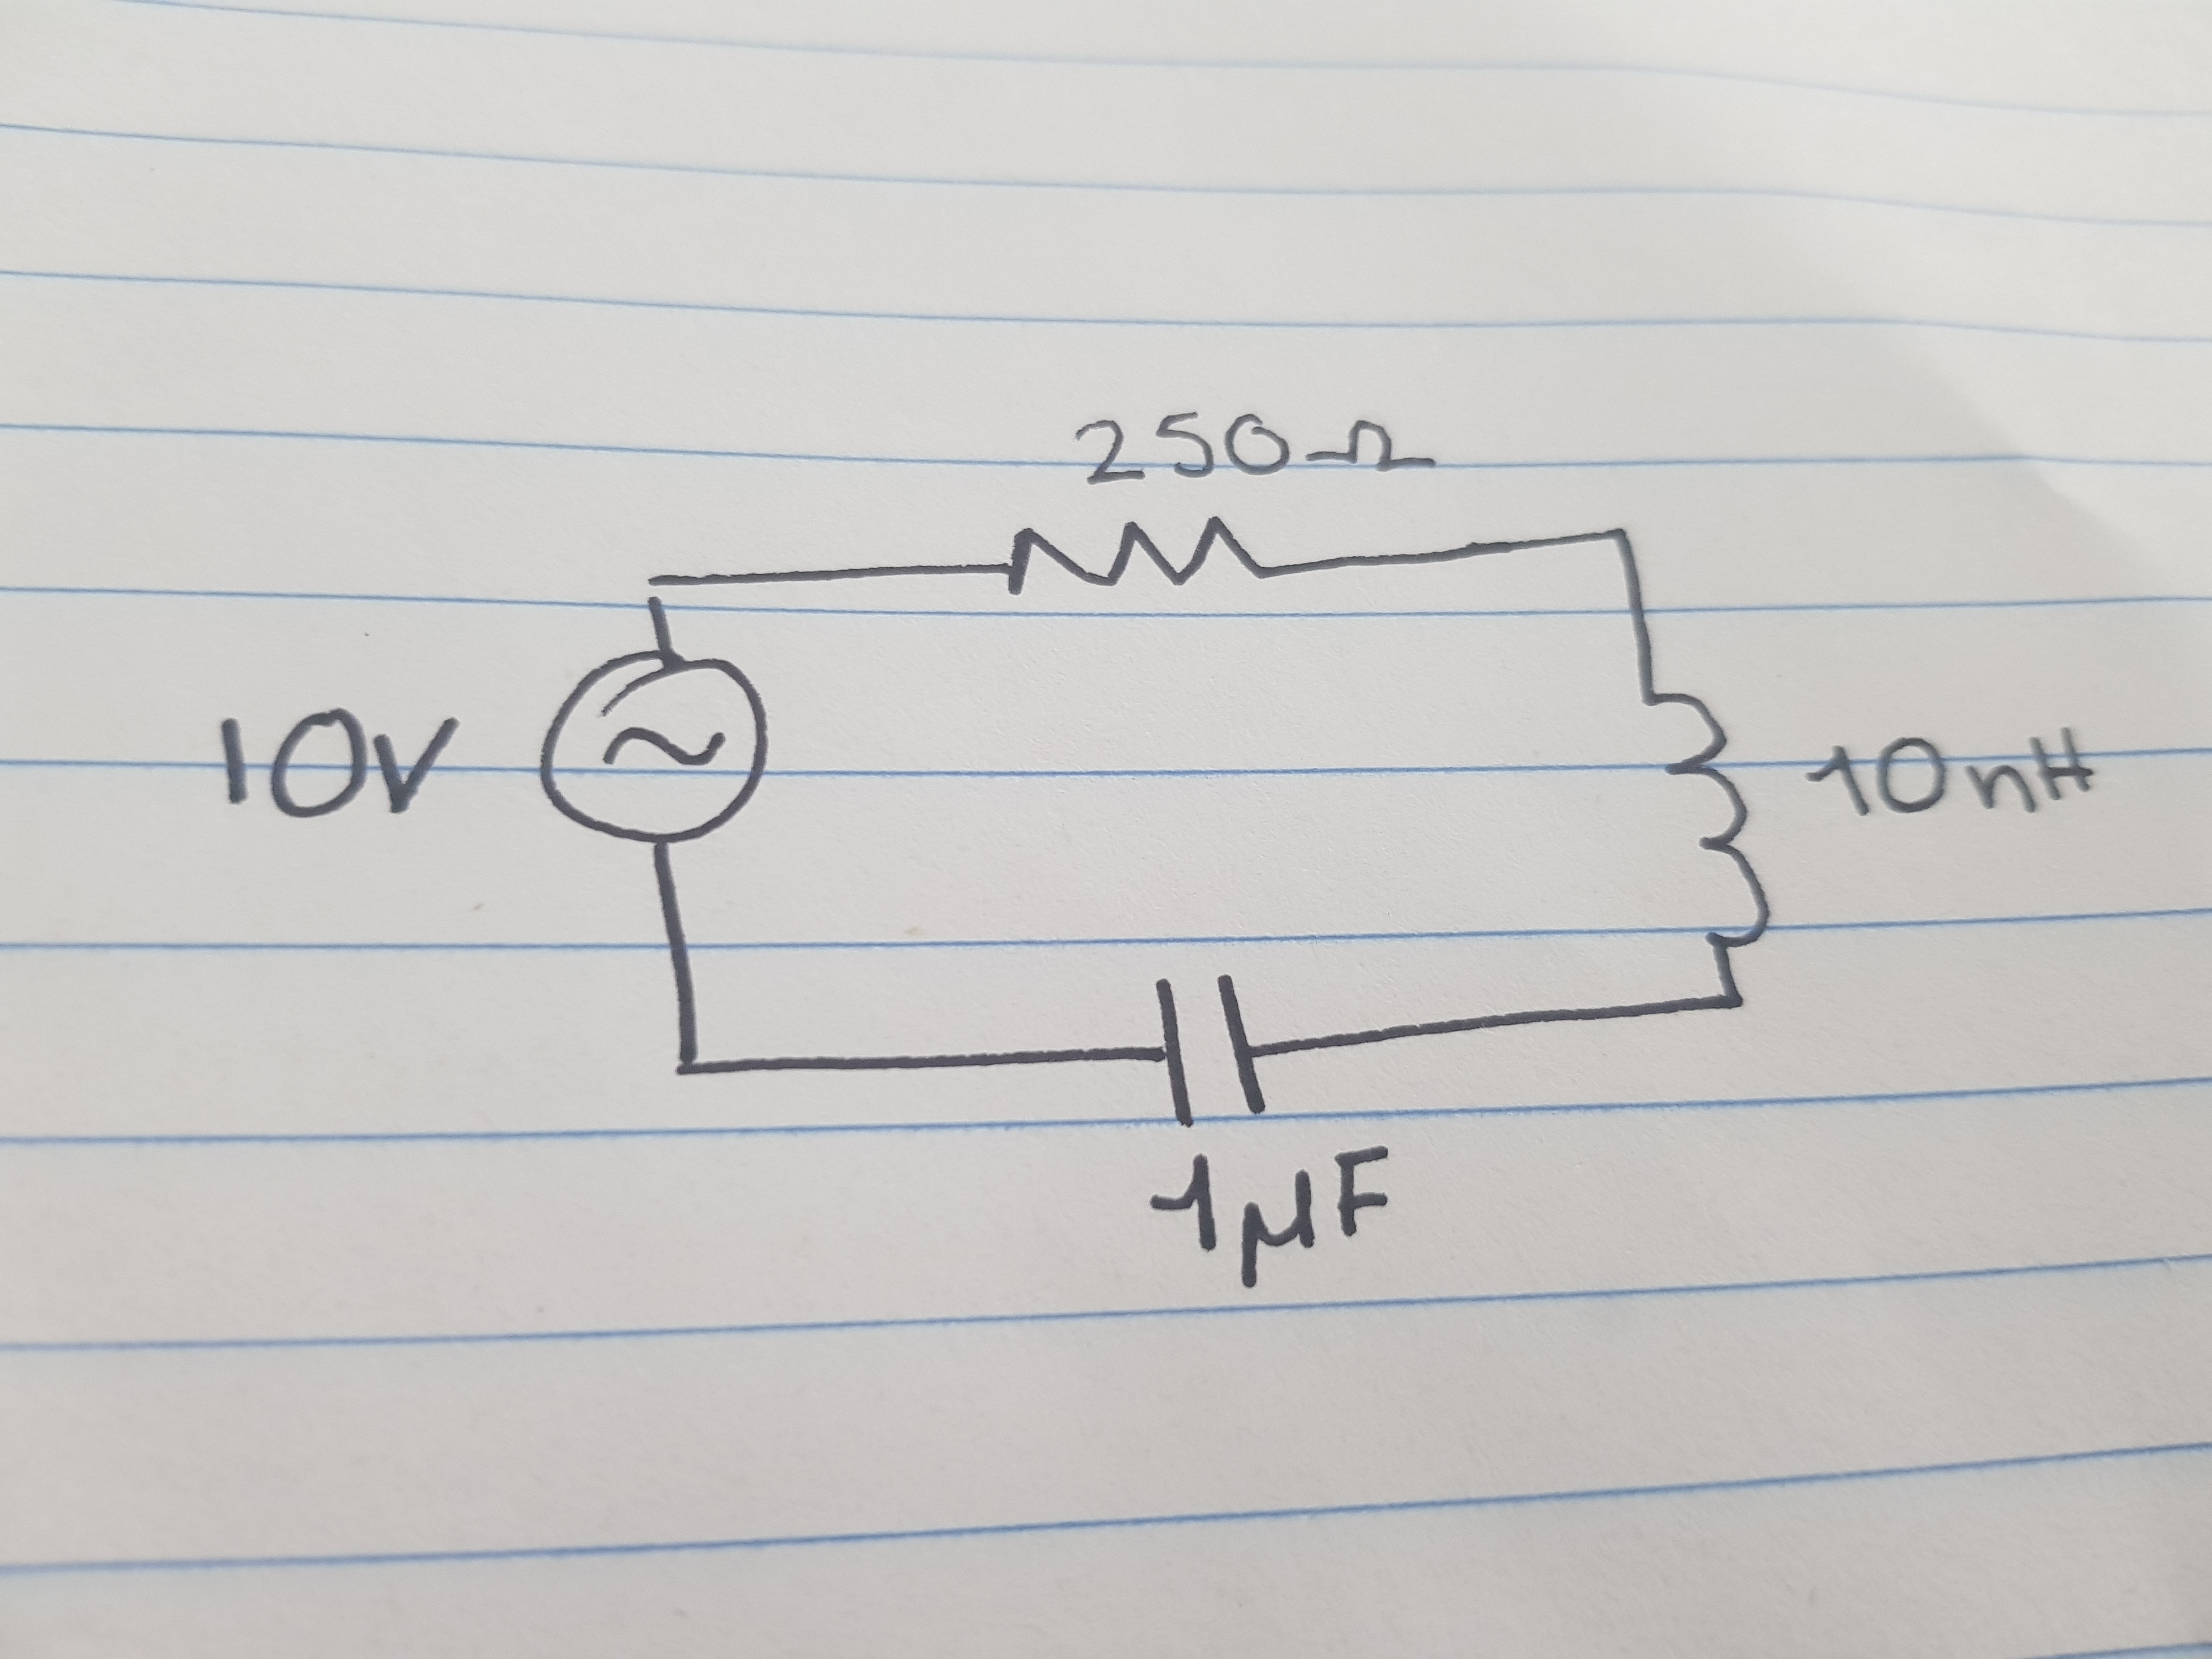capacitor.unpolarized: (1137, 953, 1284, 1143)
inductor: (1620, 674, 1778, 951)
junction: (603, 552, 698, 613), (658, 1030, 716, 1096), (1588, 512, 1655, 568), (1698, 986, 1764, 1032)
resistor: (998, 500, 1284, 610)
text: (202, 688, 474, 831), (1143, 1154, 1395, 1293), (1066, 403, 1439, 484), (1799, 721, 2102, 819)
voltage.dc: (526, 653, 773, 868)
